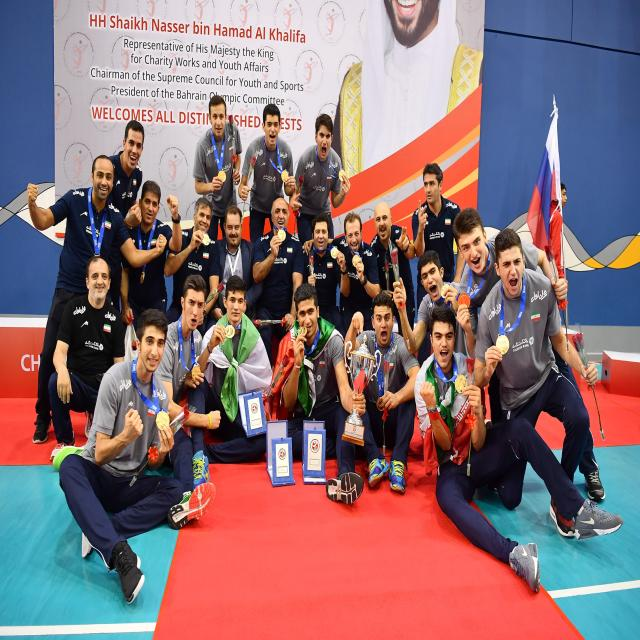body: (412, 305, 624, 595), (25, 153, 168, 444), (471, 226, 599, 538), (58, 306, 184, 606), (472, 228, 598, 502), (330, 0, 483, 184), (277, 280, 366, 504), (186, 273, 275, 495), (154, 273, 222, 531), (343, 288, 424, 494), (47, 254, 126, 462), (118, 179, 183, 362), (411, 162, 466, 368), (302, 211, 381, 337), (252, 196, 305, 369), (386, 238, 461, 356), (238, 102, 297, 244), (163, 195, 221, 339), (289, 111, 351, 242), (206, 205, 265, 334), (107, 119, 146, 314), (192, 94, 243, 242), (370, 201, 416, 338), (302, 210, 351, 338), (548, 181, 568, 284)
